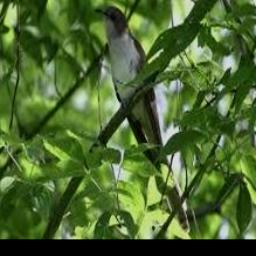Cuckoo: (96, 6, 191, 235)
